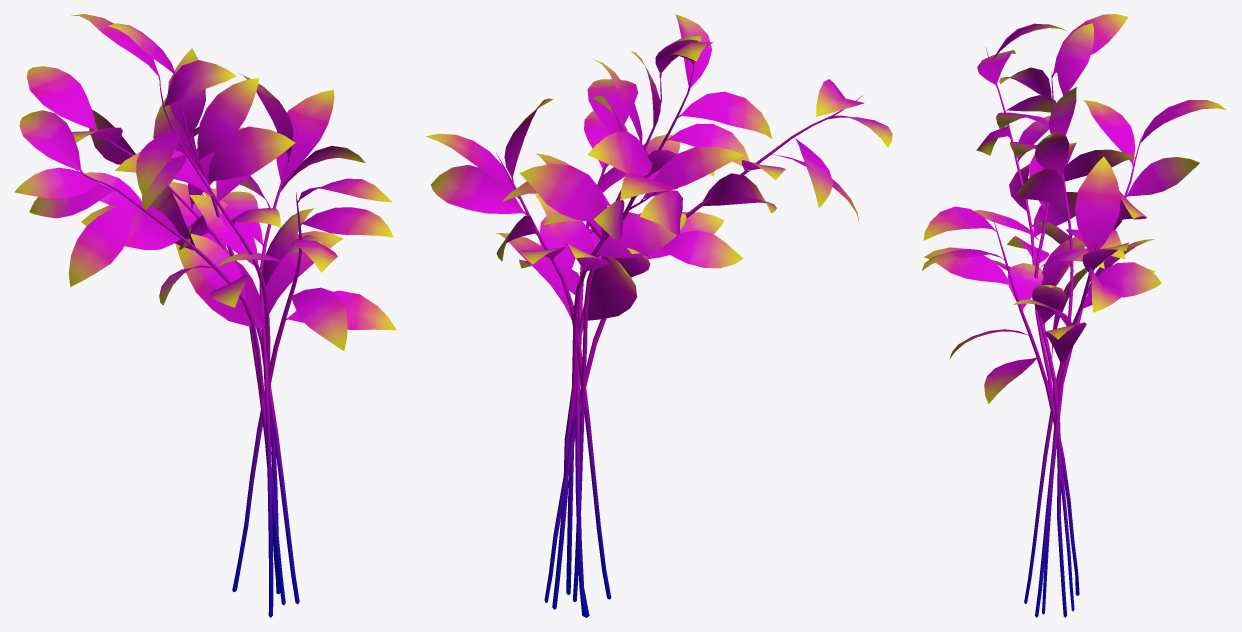
The model's file is Flowers01.fbx.
3 renders of one model, left to right at view 1: azimuth 30°, elevation 25°; view 2: azimuth 150°, elevation 25°; view 3: azimuth 270°, elevation 25°, orthographic. The views are drawn at different scales.
Visible parts, largest first — view 1: flowers01; view 2: flowers01; view 3: flowers01.
Part boxes in pixels (<box>): flowers01: <box>14,14,396,617</box>; flowers01: <box>425,14,892,617</box>; flowers01: <box>921,14,1226,617</box>.
Size of the model in its own units: 373 by 541 by 283.
